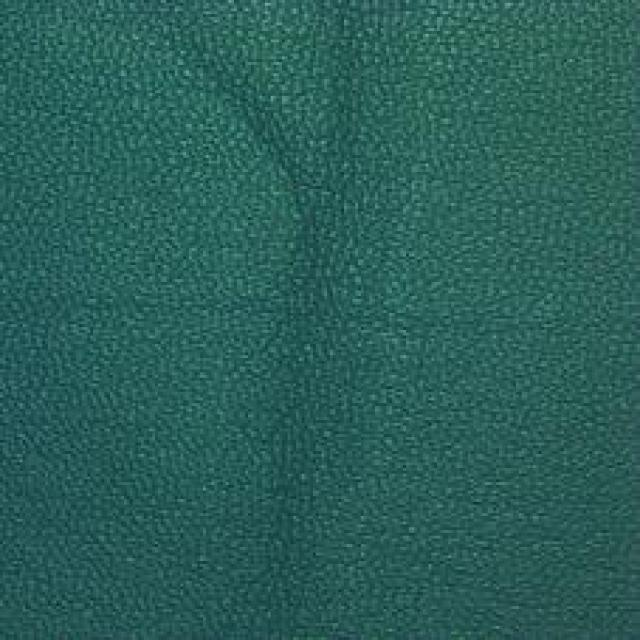Growth Marks: (231, 203, 419, 461), (162, 32, 329, 184)
